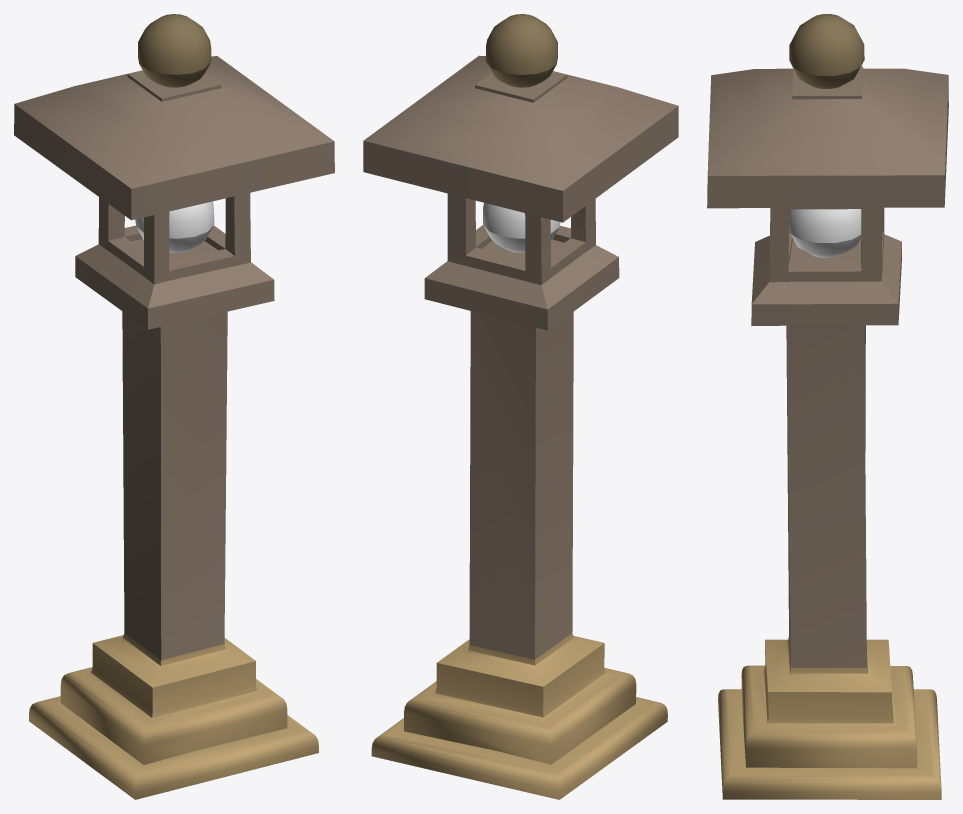
The model's file is stone_lamp_1.fbx.
3 renders of one model, left to right at view 1: azimuth 30°, elevation 25°; view 2: azimuth 150°, elevation 25°; view 3: azimuth 270°, elevation 25°, orthographic. The views are drawn at different scales.
Parts seen in each view (by area): view 1: stone lamp 1; view 2: stone lamp 1; view 3: stone lamp 1.
Part boxes in pixels (x1=…): stone lamp 1: x1=14, y1=14, x2=334, y2=799; stone lamp 1: x1=363, y1=14, x2=678, y2=799; stone lamp 1: x1=707, y1=14, x2=948, y2=799.
Size of the model in its own units: 32.22 by 110 by 32.66.
